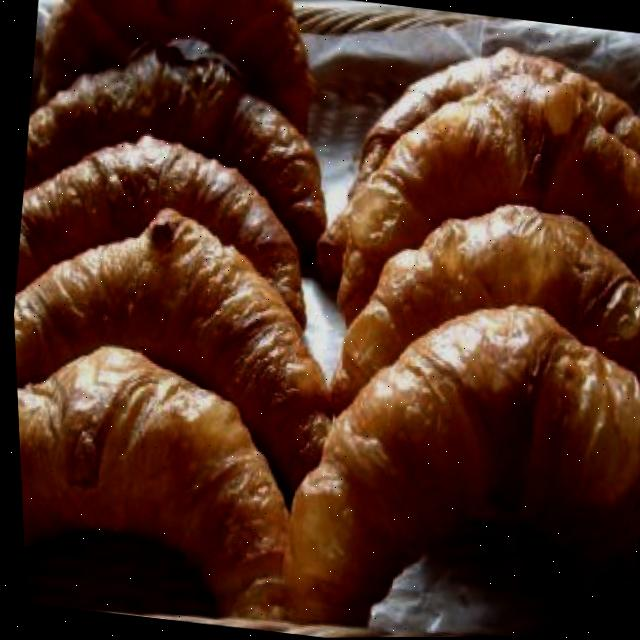面包点心: (217, 257, 640, 639)
